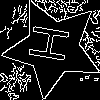H: (28, 22, 79, 66)
